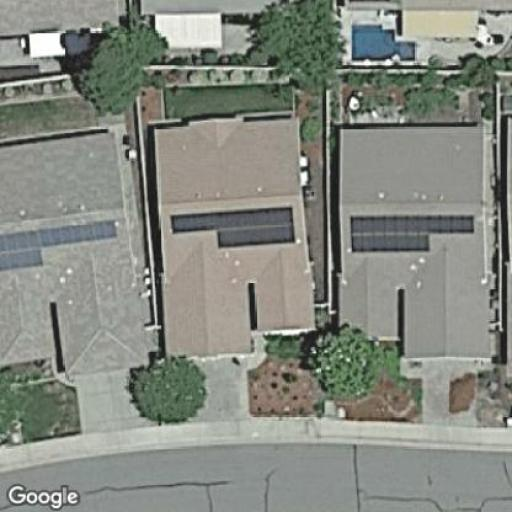solar-panel: (2, 216, 120, 274), (167, 205, 298, 249), (350, 213, 475, 251)
